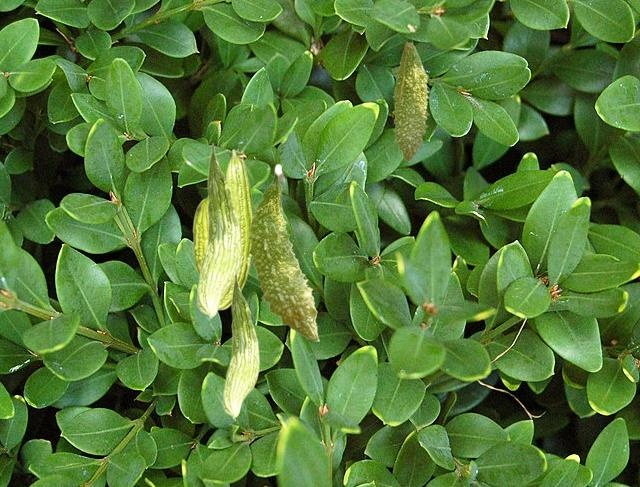ampalaya: (246, 163, 320, 342), (196, 142, 242, 320), (222, 272, 260, 420), (219, 148, 253, 310), (391, 41, 430, 162), (192, 196, 207, 276)
